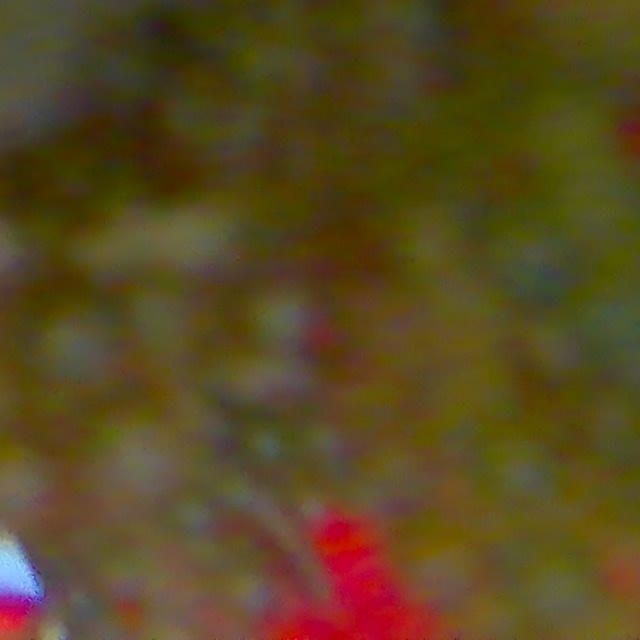SeaGrape: (32, 303, 124, 396), (122, 283, 207, 368), (244, 277, 323, 356), (0, 441, 61, 526), (242, 415, 300, 472), (296, 418, 350, 474), (166, 486, 219, 538)
